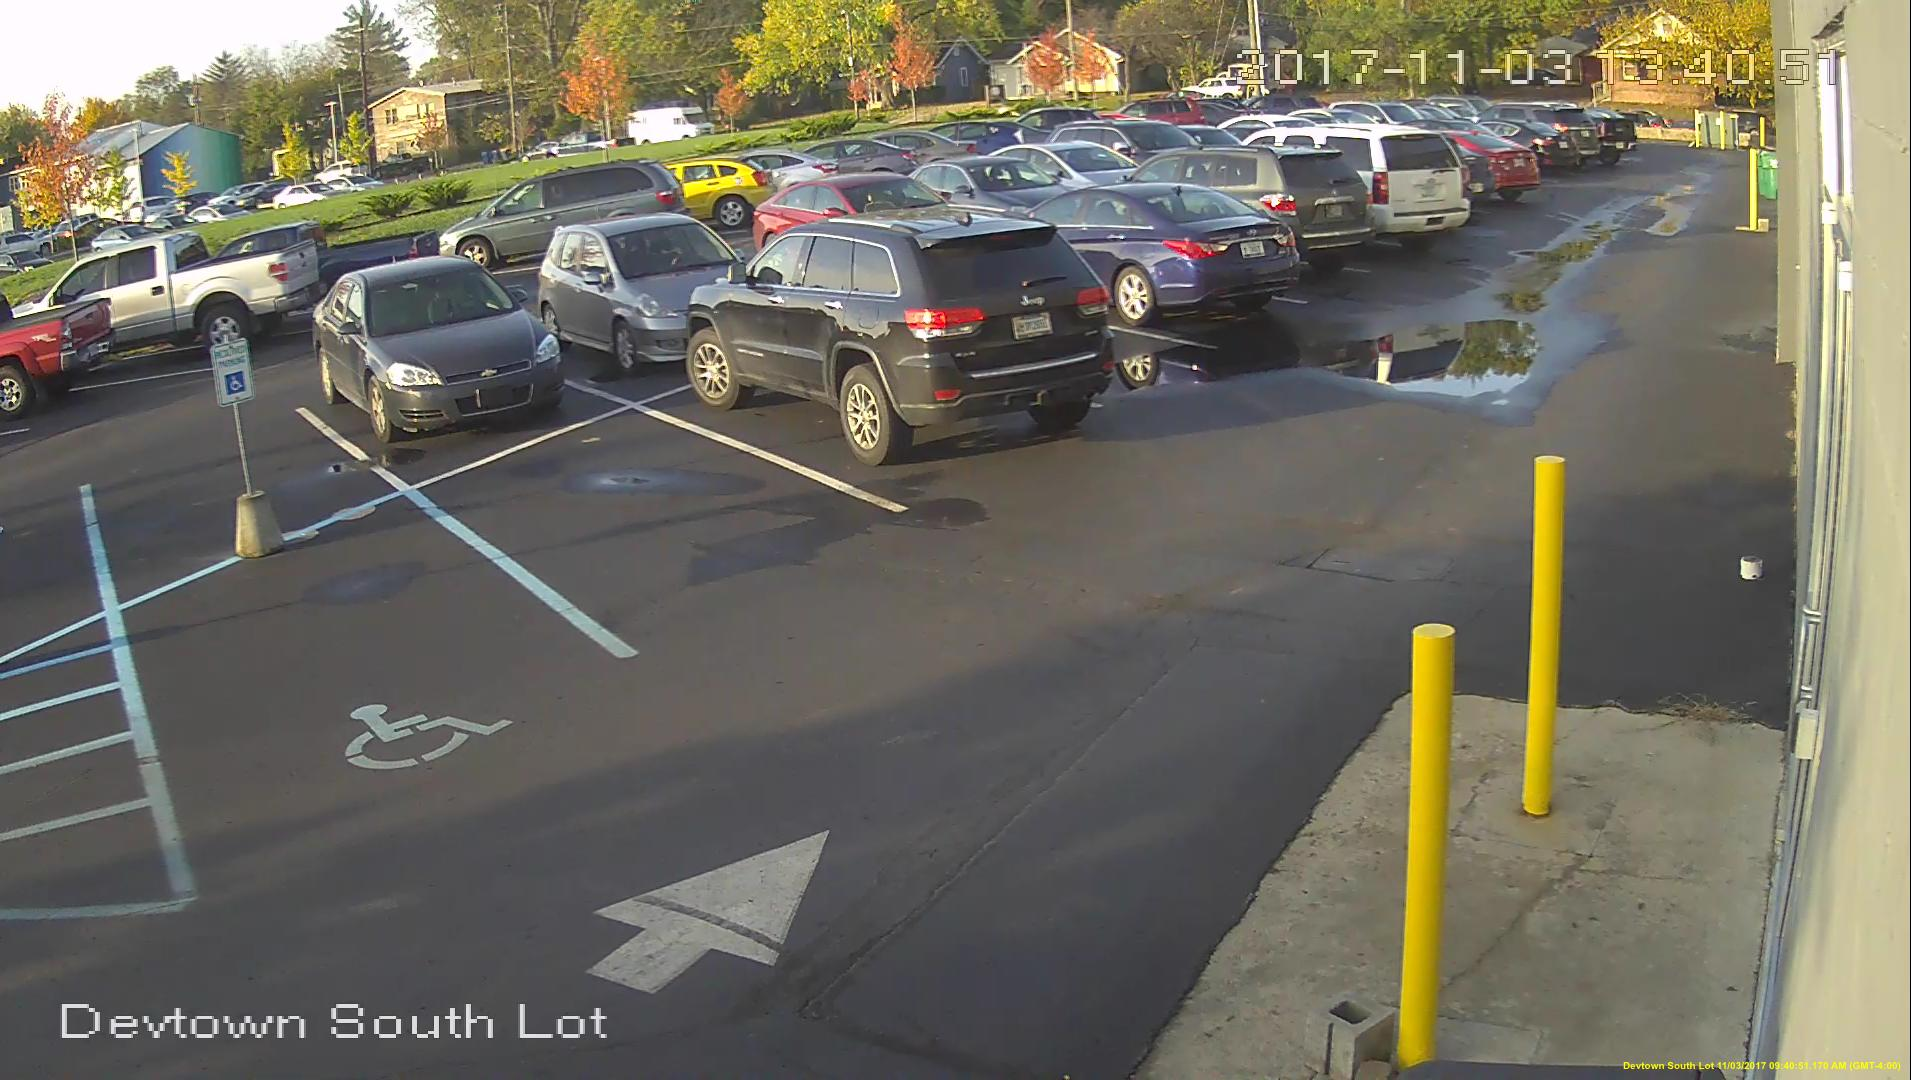fedex_truck: (626, 105, 714, 144)
